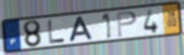1: (101, 12, 113, 40)
4: (142, 7, 161, 35)
8: (23, 19, 43, 48)
A: (67, 15, 94, 43)
L: (47, 19, 67, 45)
P: (115, 10, 139, 39)
